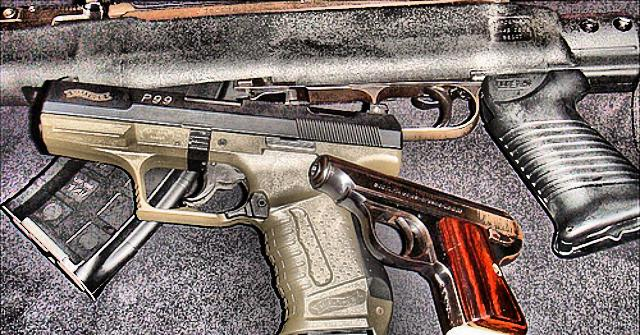pistol: (36, 72, 402, 334), (308, 153, 526, 333)
